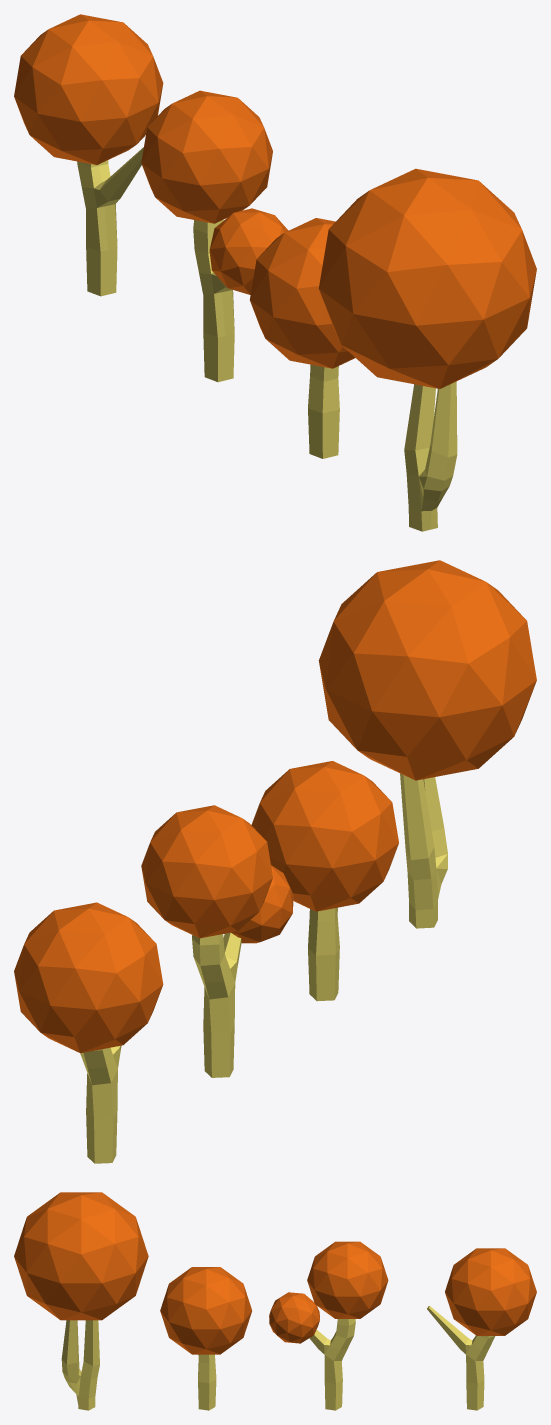
File: trees2.fbx
The picture shows the model from 3 angles, top to bottom: view 1: azimuth 30°, elevation 25°; view 2: azimuth 150°, elevation 25°; view 3: azimuth 270°, elevation 25°; orthographic projection. The views are drawn at different scales.
Parts seen in each view (by area): view 1: Tree, Tree_4, Tree_3, Tree_2; view 2: Tree, Tree_4, Tree_3, Tree_2; view 3: Tree, Tree_3, Tree_4, Tree_2.
Boxes of the visible parts, left/top/right/bottom form: Tree: left=319, top=168, right=536, bottom=531; Tree_4: left=14, top=14, right=163, bottom=296; Tree_3: left=141, top=90, right=288, bottom=382; Tree_2: left=250, top=218, right=355, bottom=458; Tree: left=318, top=560, right=536, bottom=928; Tree_4: left=14, top=902, right=163, bottom=1163; Tree_3: left=141, top=805, right=293, bottom=1077; Tree_2: left=251, top=761, right=398, bottom=1001; Tree: left=14, top=1192, right=148, bottom=1410; Tree_3: left=269, top=1241, right=388, bottom=1410; Tree_4: left=427, top=1248, right=536, bottom=1410; Tree_2: left=160, top=1267, right=252, bottom=1410.
Size of the model in its own units: 278 by 507 by 1135.
